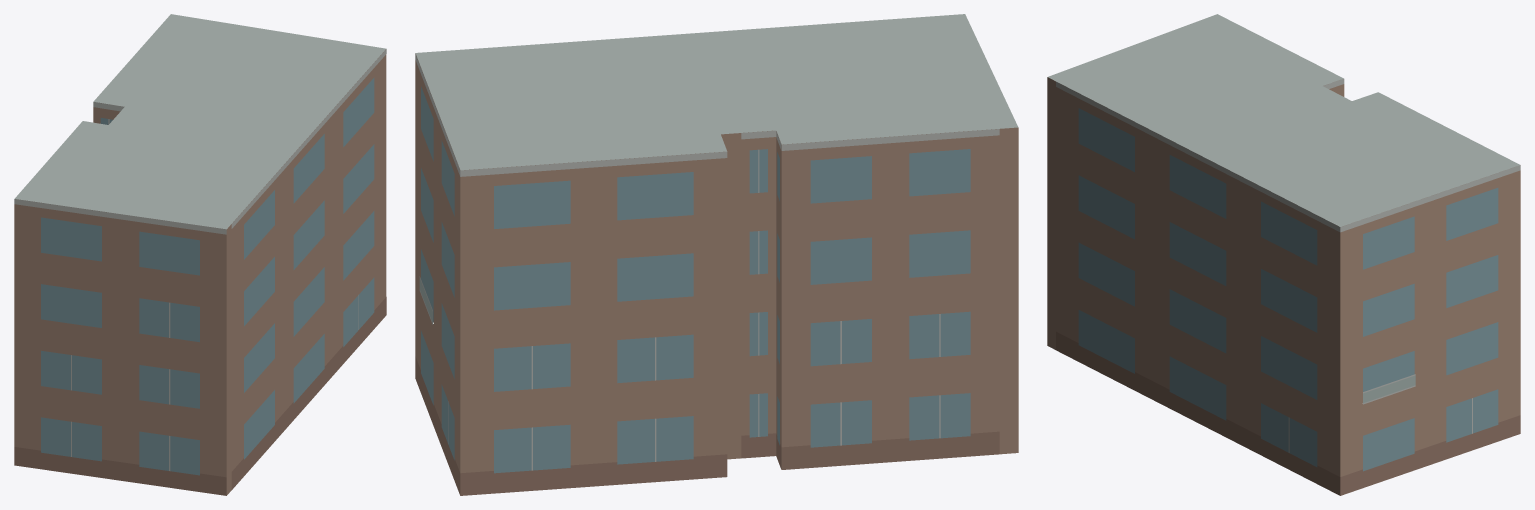
File: survey-upis-32747680.glb
3 renders of one model, left to right at view 1: azimuth 30°, elevation 25°; view 2: azimuth 150°, elevation 25°; view 3: azimuth 270°, elevation 25°, orthographic. The views are drawn at different scales.
Visible parts, largest first — view 1: survey-upis-32747680.tmp; view 2: survey-upis-32747680.tmp; view 3: survey-upis-32747680.tmp.
Boxes of the visible parts, left/top/right/bottom form: survey-upis-32747680.tmp: left=14, top=14, right=386, bottom=495; survey-upis-32747680.tmp: left=415, top=14, right=1018, bottom=495; survey-upis-32747680.tmp: left=1047, top=14, right=1520, bottom=495.
Bounding box in the file's own units: 20.74 × 12.2 × 19.47.
